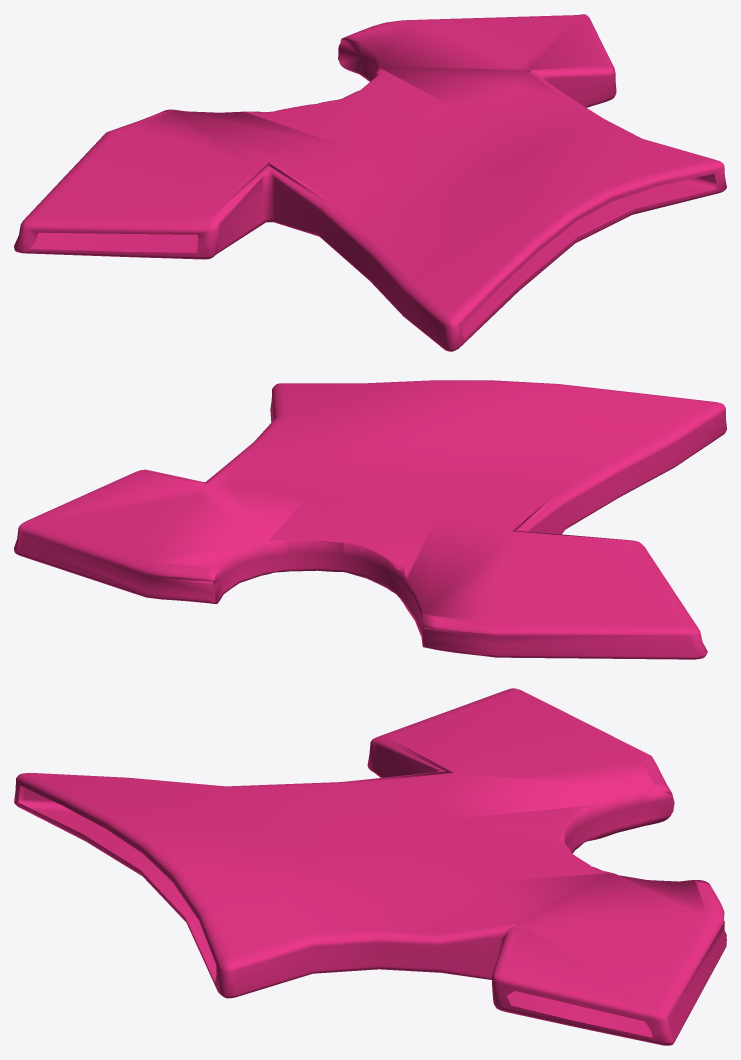
The model's file is Shirt2.fbx.
3 renders of one model, top to bottom at view 1: azimuth 30°, elevation 25°; view 2: azimuth 150°, elevation 25°; view 3: azimuth 270°, elevation 25°, orthographic. The views are drawn at different scales.
Visible parts, largest first — view 1: Cube.023; view 2: Cube.023; view 3: Cube.023.
Boxes of the visible parts, x1,y1,x2,y2 form: Cube.023: [14, 14, 726, 351]; Cube.023: [14, 380, 726, 659]; Cube.023: [14, 688, 726, 1045].
Bounding box in the file's own units: 0.759 × 0.0803 × 0.6711.
